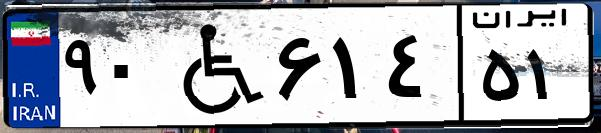0: (110, 28, 158, 98)
1: (330, 28, 385, 110), (525, 38, 570, 115)
4: (385, 28, 445, 110)
5: (475, 38, 525, 113)
6: (270, 28, 330, 110)
9: (57, 26, 110, 100)
ژ (معلولین و جانبازان): (158, 12, 270, 120)
